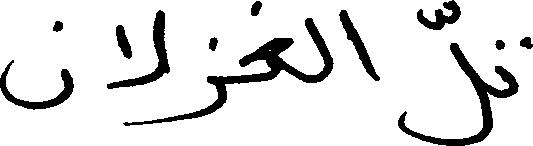X: (399, 0, 493, 145), (108, 5, 167, 130), (0, 16, 73, 114), (241, 0, 292, 87), (340, 5, 378, 85), (495, 32, 532, 102), (305, 13, 332, 87), (208, 32, 227, 118)
